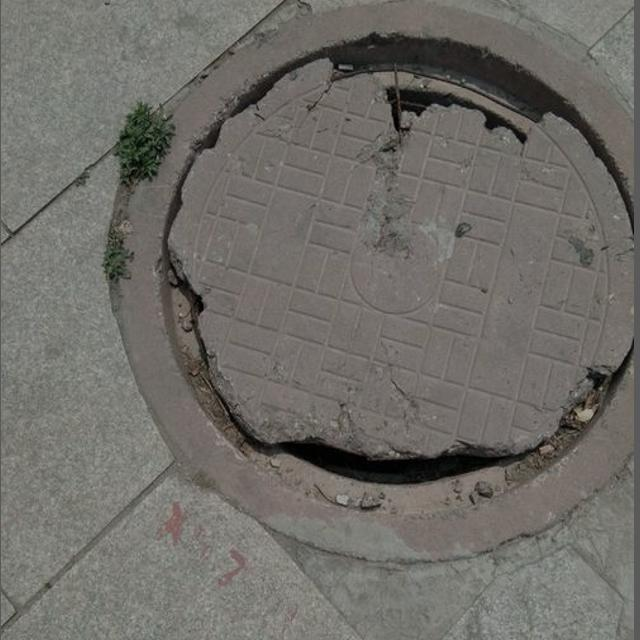broke: (101, 0, 634, 571)
